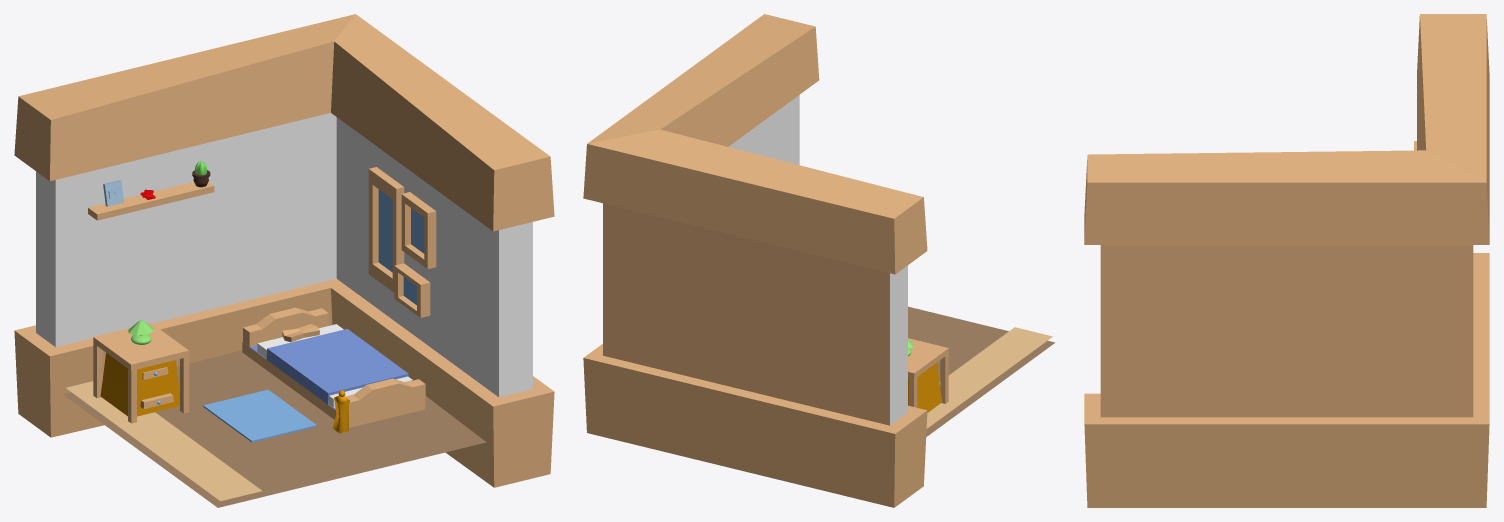
The model's file is bedroom.gltf.
3 renders of one model, left to right at view 1: azimuth 30°, elevation 25°; view 2: azimuth 150°, elevation 25°; view 3: azimuth 270°, elevation 25°, orthographic. The views are drawn at different scales.
Visible parts, largest first — view 1: Cube, Plane, Plane.002, Plane.004, Plane.001, Cube.001, Plane.005, Cube.002, Cube.003; view 2: Cube, Plane, Plane.001, Plane.004; view 3: Cube.
Part boxes in pixels (x1,y1,x2,y2): Cube: [14, 14, 554, 487]; Plane: [63, 350, 486, 507]; Plane.002: [242, 307, 425, 427]; Plane.004: [93, 323, 189, 423]; Plane.001: [66, 379, 261, 501]; Cube.001: [368, 167, 404, 292]; Plane.005: [203, 389, 316, 442]; Cube.002: [401, 192, 436, 268]; Cube.003: [394, 263, 430, 317]; Cube: [583, 14, 927, 507]; Plane: [908, 306, 1055, 436]; Plane.001: [926, 327, 1052, 428]; Plane.004: [908, 338, 948, 412]; Cube: [1084, 14, 1489, 507].
Size of the model in its own units: 2.44 by 2.25 by 2.44.
